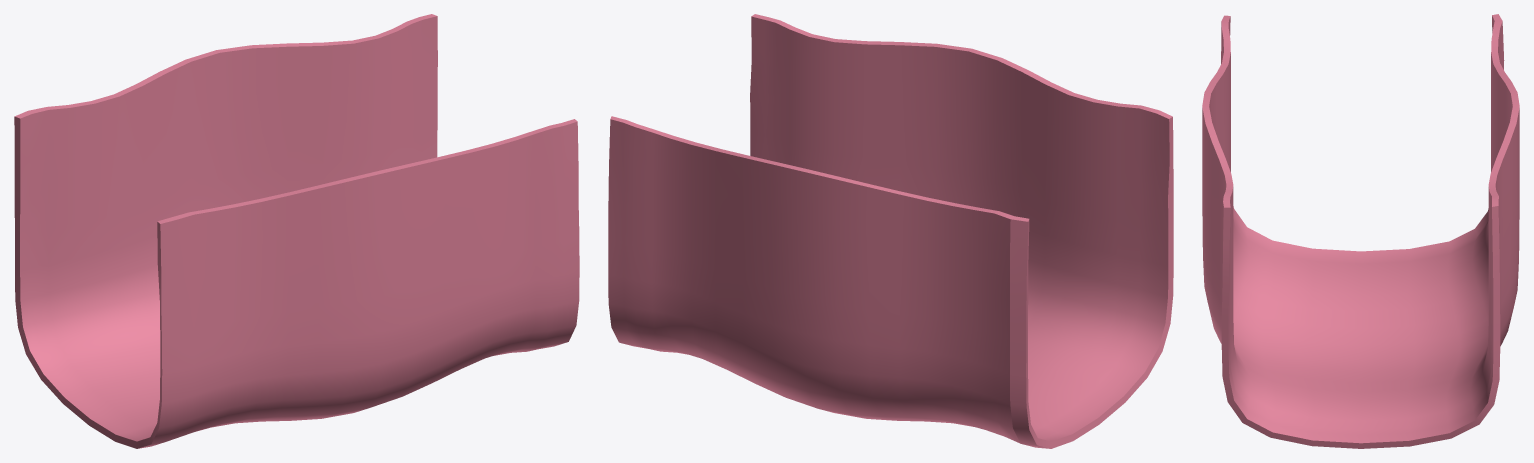
Rendered from wall1.fbx.
3 views of the same model, side by side, from view 1: azimuth 30°, elevation 25°; view 2: azimuth 150°, elevation 25°; view 3: azimuth 270°, elevation 25° (orthographic). The views are drawn at different scales.
Parts seen in each view (by area): view 1: tube1; view 2: tube1; view 3: tube1.
Boxes of the visible parts, bbox=[...] form: tube1: bbox=[14, 14, 579, 448]; tube1: bbox=[608, 14, 1173, 448]; tube1: bbox=[1202, 14, 1519, 448].
Size of the model in its own units: 1006 by 630 by 696.
